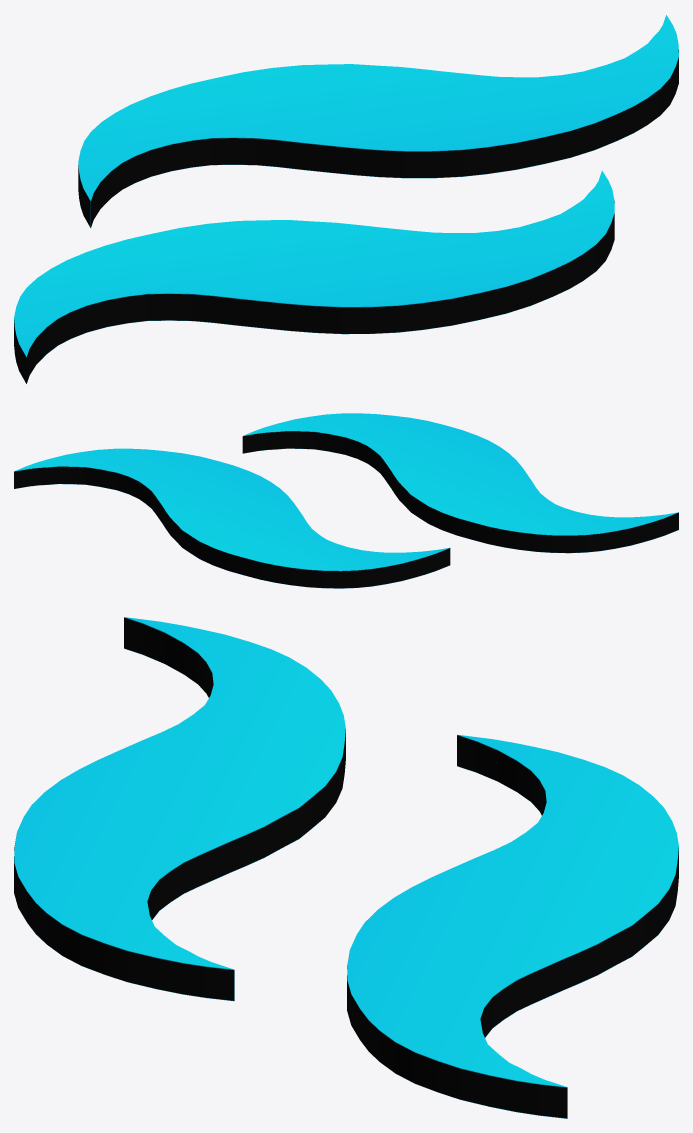
Rendered from tailwind.gltf.
The picture shows the model from 3 angles, top to bottom: view 1: azimuth 30°, elevation 25°; view 2: azimuth 150°, elevation 25°; view 3: azimuth 270°, elevation 25°; orthographic projection. The views are drawn at different scales.
Parts seen in each view (by area): view 1: Plane.013, Plane.014, Plane.018, Plane.016; view 2: Plane.014, Plane.013, Plane.017, Plane.015; view 3: Plane.014, Plane.013, Plane.018, Plane.016, Plane.015, Plane.017.
Boxes of the visible parts, x1,y1,x2,y2 form: Plane.013: (78, 15, 678, 228); Plane.014: (14, 170, 614, 382); Plane.018: (26, 201, 614, 383); Plane.016: (91, 49, 678, 227); Plane.014: (243, 413, 678, 553); Plane.013: (14, 448, 449, 588); Plane.017: (242, 431, 678, 552); Plane.015: (14, 466, 450, 588); Plane.014: (14, 617, 345, 1001); Plane.013: (347, 734, 678, 1118); Plane.018: (14, 617, 234, 1000); Plane.016: (347, 735, 567, 1118); Plane.015: (480, 848, 678, 1037); Plane.017: (147, 730, 345, 919).
Size of the model in its own units: 4.99 by 0.1565 by 2.98.
2 materials, 1 textured.
